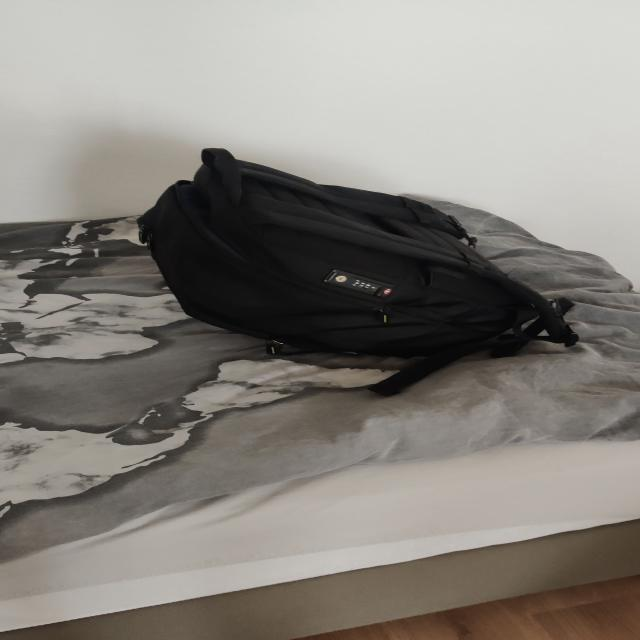backpack: (127, 142, 576, 391)
